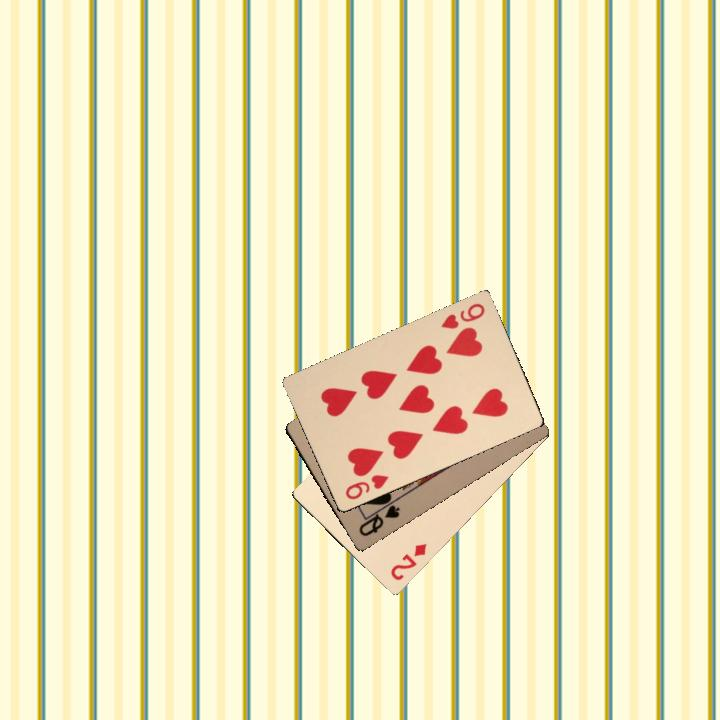2d: (386, 540, 429, 583)
9h: (437, 299, 487, 332), (341, 470, 391, 502)
Qs: (353, 495, 403, 539)
